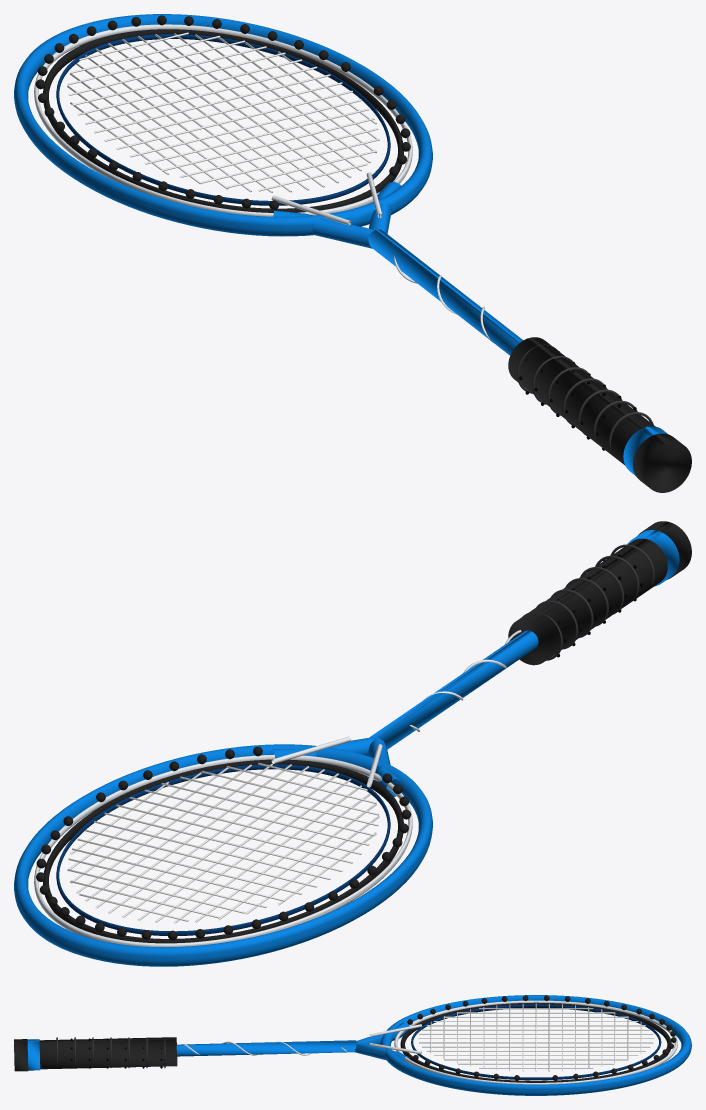
File: Badmintonschlaeger_3D.glb
3 renders of one model, top to bottom at view 1: azimuth 30°, elevation 25°; view 2: azimuth 150°, elevation 25°; view 3: azimuth 270°, elevation 25°, orthographic. The views are drawn at different scales.
Visible parts, largest first — view 1: Badmintonschlaeger_3D__web_glossy_anodized_blue, Badmintonschlaeger_3D__web_matte_black_details, Badmintonschlaeger_3D__web_taut_white_racket_strings, Badmintonschlaeger_3D__web_silver_graphite_insert, Badmintonschlaeger_3D__web_dark_blue_edge_shadow, Badmintonschlaeger_3D__web_slightly_glossy_grip_band0; view 2: Badmintonschlaeger_3D__web_glossy_anodized_blue, Badmintonschlaeger_3D__web_matte_black_details, Badmintonschlaeger_3D__web_taut_white_racket_strings, Badmintonschlaeger_3D__web_silver_graphite_insert, Badmintonschlaeger_3D__web_dark_blue_edge_shadow, Badmintonschlaeger_3D__web_slightly_glossy_grip_band0; view 3: Badmintonschlaeger_3D__web_glossy_anodized_blue, Badmintonschlaeger_3D__web_matte_black_details, Badmintonschlaeger_3D__web_taut_white_racket_strings, Badmintonschlaeger_3D__web_silver_graphite_insert, Badmintonschlaeger_3D__web_dark_blue_edge_shadow, Badmintonschlaeger_3D__web_slightly_glossy_grip_band0.
Boxes of the visible parts, <box> form: Badmintonschlaeger_3D__web_glossy_anodized_blue: <box>14,14,667,475</box>; Badmintonschlaeger_3D__web_matte_black_details: <box>35,15,691,492</box>; Badmintonschlaeger_3D__web_taut_white_racket_strings: <box>67,32,379,193</box>; Badmintonschlaeger_3D__web_silver_graphite_insert: <box>34,24,527,342</box>; Badmintonschlaeger_3D__web_dark_blue_edge_shadow: <box>56,34,390,205</box>; Badmintonschlaeger_3D__web_slightly_glossy_grip_band0: <box>517,344,653,453</box>; Badmintonschlaeger_3D__web_glossy_anodized_blue: <box>14,530,679,966</box>; Badmintonschlaeger_3D__web_matte_black_details: <box>36,521,691,943</box>; Badmintonschlaeger_3D__web_taut_white_racket_strings: <box>67,763,379,923</box>; Badmintonschlaeger_3D__web_silver_graphite_insert: <box>34,630,521,947</box>; Badmintonschlaeger_3D__web_dark_blue_edge_shadow: <box>56,764,390,935</box>; Badmintonschlaeger_3D__web_slightly_glossy_grip_band0: <box>522,544,654,660</box>; Badmintonschlaeger_3D__web_glossy_anodized_blue: <box>27,995,691,1095</box>; Badmintonschlaeger_3D__web_matte_black_details: <box>14,995,676,1082</box>; Badmintonschlaeger_3D__web_taut_white_racket_strings: <box>418,1003,654,1071</box>; Badmintonschlaeger_3D__web_silver_graphite_insert: <box>183,1000,677,1084</box>; Badmintonschlaeger_3D__web_dark_blue_edge_shadow: <box>411,1004,661,1080</box>; Badmintonschlaeger_3D__web_slightly_glossy_grip_band0: <box>56,1037,165,1067</box>.
Bounding box in the file's own units: 1.28 × 0.222 × 3.96.
